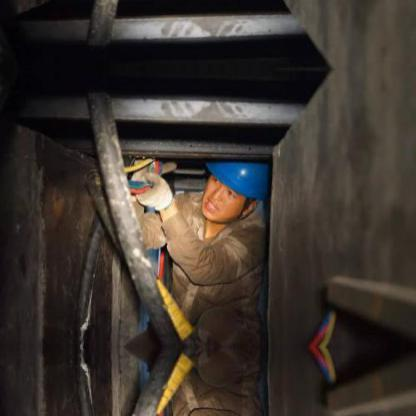safetyhelmet: (203, 158, 274, 208)
